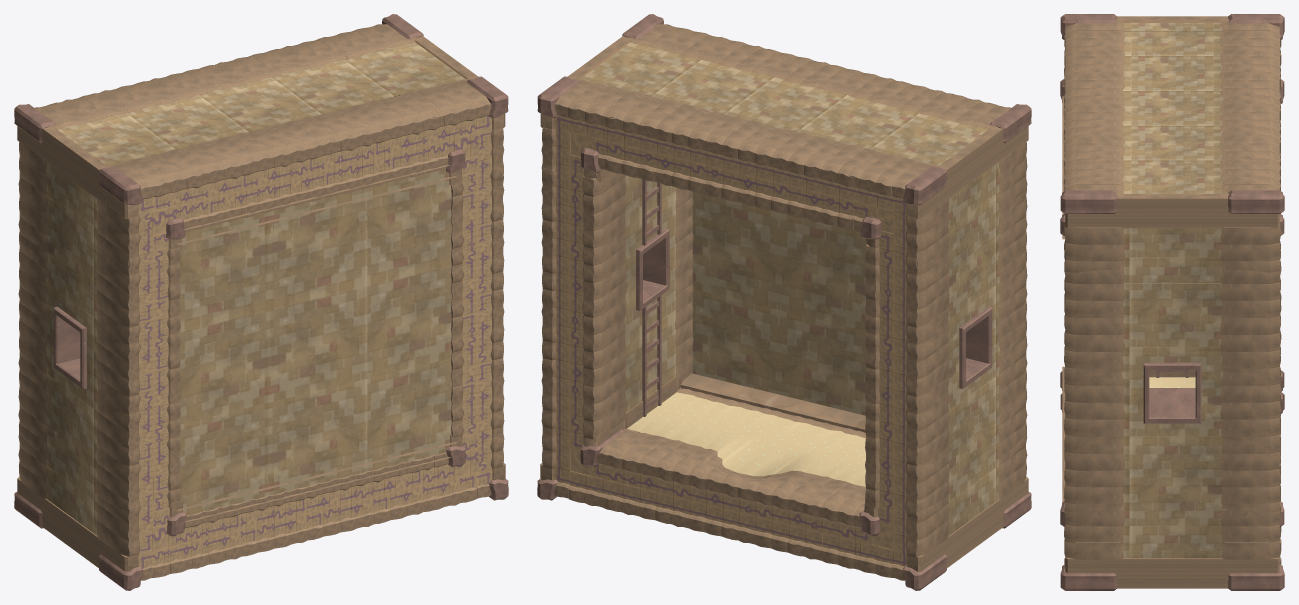
Rendered from EgyptianFloorRoomBaseWithBalcony.fbx.
The picture shows the model from 3 angles, left to right: view 1: azimuth 30°, elevation 25°; view 2: azimuth 150°, elevation 25°; view 3: azimuth 270°, elevation 25°; orthographic projection. The views are drawn at different scales.
Parts seen in each view (by area): view 1: RoomEdges, RoomWall; view 2: RoomEdges, RoomWall; view 3: RoomEdges, RoomWall.
Part boxes in pixels (x1=…): RoomEdges: x1=14, y1=14, x2=508, y2=590; RoomWall: x1=177, y1=164, x2=456, y2=522; RoomEdges: x1=537, y1=14, x2=1031, y2=590; RoomWall: x1=680, y1=192, x2=866, y2=432; RoomEdges: x1=1060, y1=14, x2=1284, y2=590; RoomWall: x1=1062, y1=96, x2=1065, y2=501.
Bounding box in the file's own units: 5315 × 5314 × 2726.
5 materials, 5 textured.
